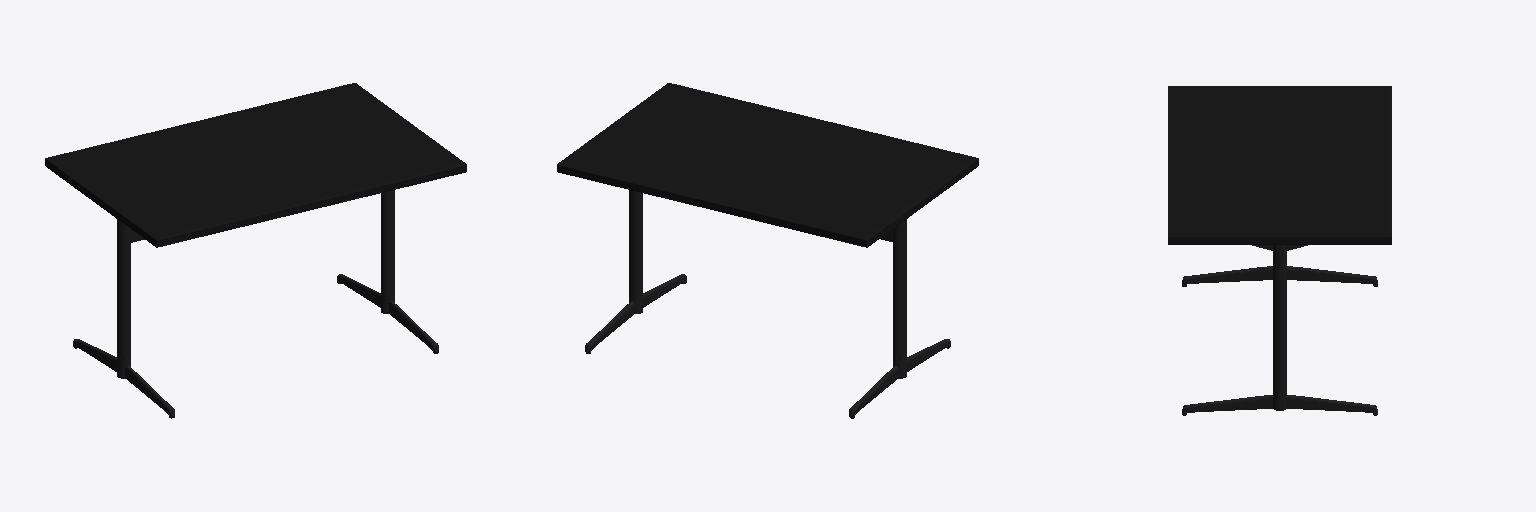
The model's file is F_table_0013.obj.
The picture shows the model from 3 angles: view 1: azimuth 30°, elevation 25°; view 2: azimuth 150°, elevation 25°; view 3: azimuth 270°, elevation 25°; orthographic projection.
Visible parts, largest first — view 1: Box06, Cylinder01, Cylinder02, Box01, Box04; view 2: Box06, Cylinder01, Cylinder02, Box01, Box04; view 3: Box06, Cylinder02, Box01, Box04.
Part boxes in pixels (x1,y1,x2,y2): Box06: (45, 83, 466, 247); Cylinder01: (117, 219, 130, 378); Cylinder02: (381, 190, 394, 313); Box01: (73, 339, 174, 416); Box04: (337, 274, 438, 352); Box06: (557, 83, 978, 247); Cylinder01: (893, 219, 906, 378); Cylinder02: (629, 190, 642, 313); Box01: (849, 339, 950, 416); Box04: (585, 274, 686, 352); Box06: (1168, 86, 1391, 244); Cylinder02: (1273, 245, 1286, 410); Box01: (1182, 266, 1377, 285); Box04: (1182, 395, 1377, 414).
Size of the model in its own units: 1200 by 699 by 750.